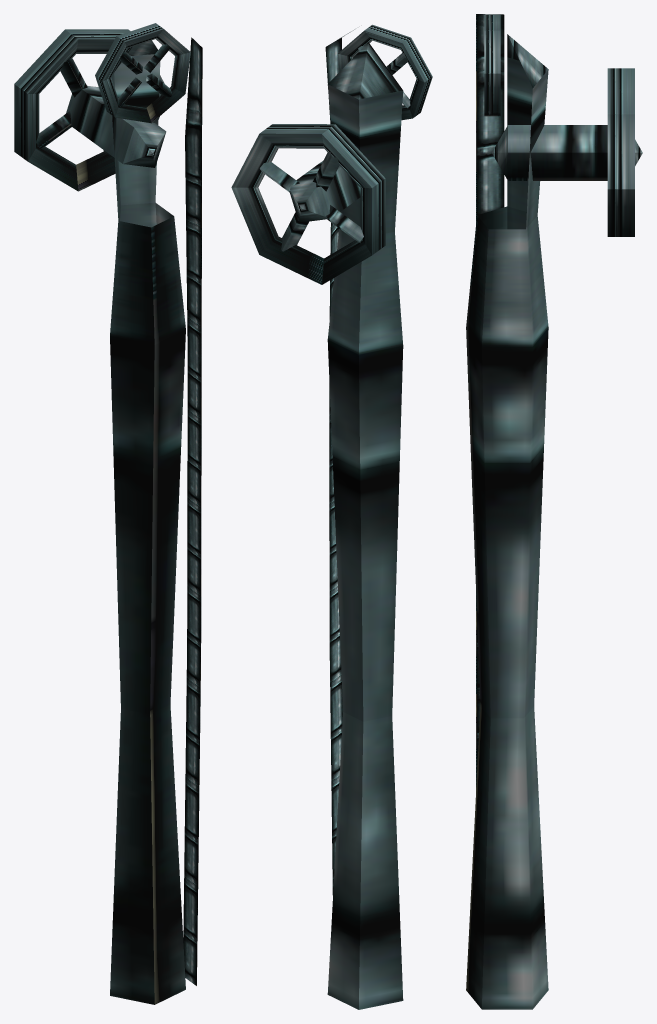
File: Kran_LagerhalleRäder_1015.glb
The picture shows the model from 3 angles, left to right: view 1: azimuth 30°, elevation 25°; view 2: azimuth 150°, elevation 25°; view 3: azimuth 270°, elevation 25°; orthographic projection.
Parts seen in each view (by area): view 1: pCylinderShape1, pPlaneShape1, pTorusShape1, pSphereShape1, pTorusShape2, pSphereShape2eererwerer, pSphereShape2eer1; view 2: pCylinderShape1, pTorusShape1, pPlaneShape1, pSphereShape1, pTorusShape2, pSphereShape2eererwerer, pSphereShape2eer1, pSphereShape2eererwer2, pSphereShape2eererwer1; view 3: pCylinderShape1, pSphereShape1, pTorusShape1, pPlaneShape1, pTorusShape2.
Boxes of the visible parts, x1,y1,x2,y2 form: pCylinderShape1: [110, 40, 185, 1004]; pPlaneShape1: [183, 37, 202, 985]; pTorusShape1: [14, 29, 164, 191]; pSphereShape1: [66, 85, 166, 167]; pTorusShape2: [95, 23, 190, 123]; pSphereShape2eererwerer: [36, 111, 71, 149]; pSphereShape2eer1: [60, 58, 87, 97]; pCylinderShape1: [327, 42, 403, 1009]; pTorusShape1: [231, 124, 385, 284]; pPlaneShape1: [325, 29, 354, 894]; pSphereShape1: [289, 160, 360, 222]; pTorusShape2: [337, 24, 432, 120]; pSphereShape2eererwerer: [325, 205, 363, 242]; pSphereShape2eer1: [313, 152, 339, 191]; pSphereShape2eererwer2: [281, 212, 309, 251]; pSphereShape2eererwer1: [260, 162, 299, 192]; pCylinderShape1: [466, 34, 548, 1009]; pSphereShape1: [492, 125, 642, 180]; pTorusShape1: [607, 68, 634, 236]; pPlaneShape1: [476, 14, 504, 790]; pTorusShape2: [484, 15, 500, 116].
Bounding box in the file's own units: 0.0925 × 0.6063 × 0.0995.
Materials: 13 (13 with a texture image).
